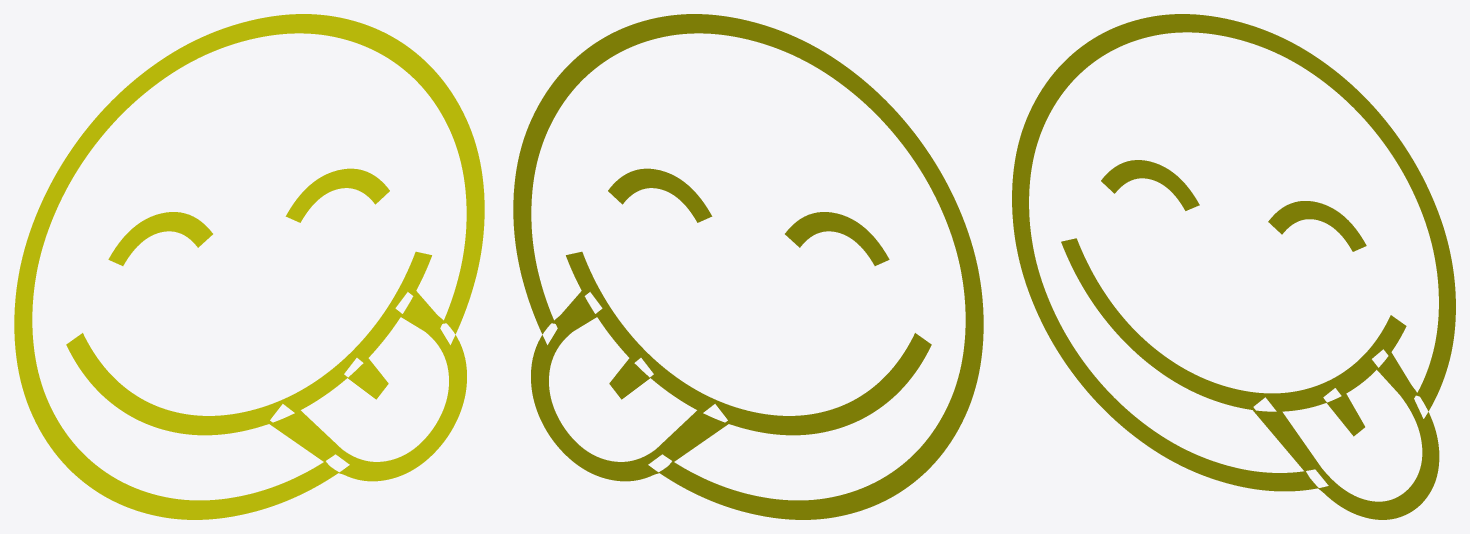
Rendered from emoji.glb.
The picture shows the model from 3 angles, left to right: view 1: azimuth 30°, elevation 25°; view 2: azimuth 150°, elevation 25°; view 3: azimuth 330°, elevation 25°; orthographic projection. The views are drawn at different scales.
Visible parts, largest first — view 1: Text.845_845; view 2: Text.845_845; view 3: Text.845_845.
Boxes of the visible parts, box(x1,y1,x2,y2) form: Text.845_845: box(14, 14, 484, 519); Text.845_845: box(513, 14, 983, 519); Text.845_845: box(1012, 14, 1455, 519).
Bounding box in the file's own units: 1.02 × 1.02 × 3.6e-06.
